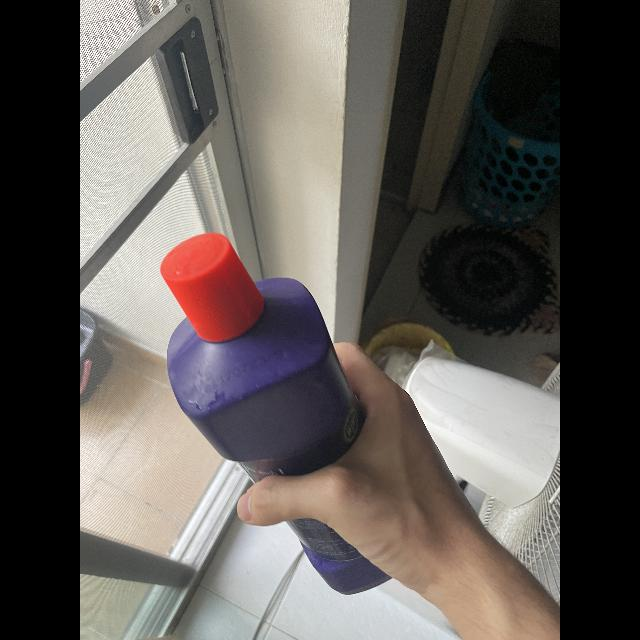chemical_plastic_bottle: (149, 223, 397, 610)
